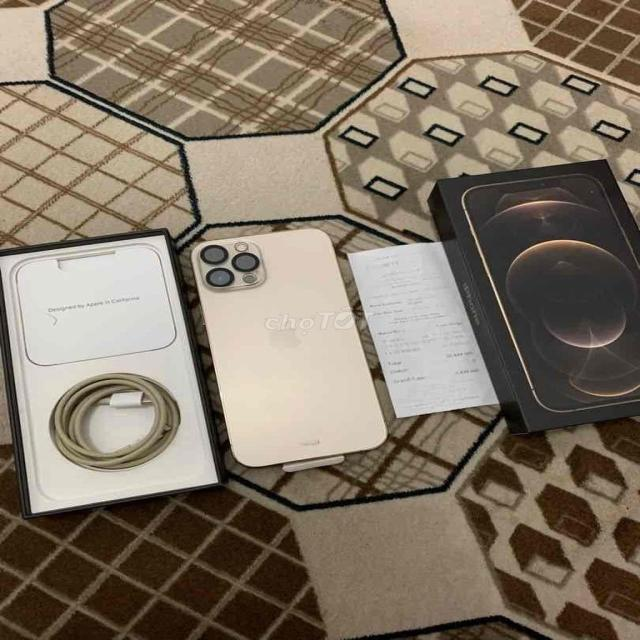gen_12_13: (180, 228, 401, 471)
